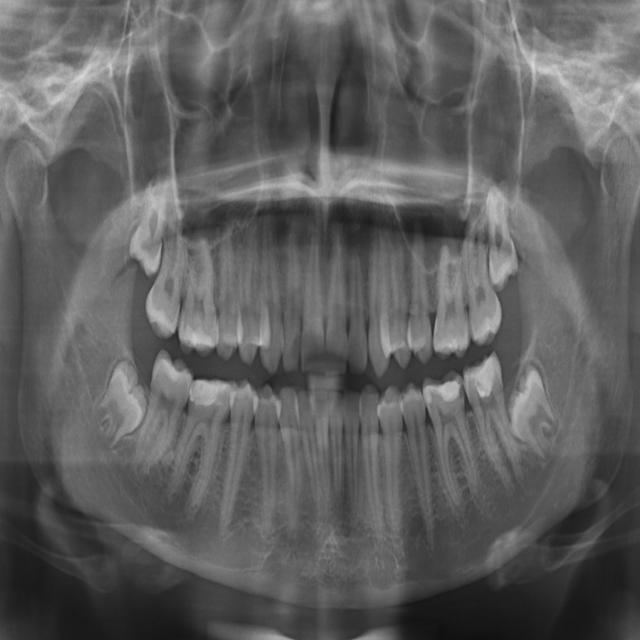CompositeResinRestoration: (468, 358, 500, 403), (189, 380, 221, 409), (435, 374, 459, 404)
DentalCaries: (423, 392, 436, 419), (456, 385, 467, 416)
